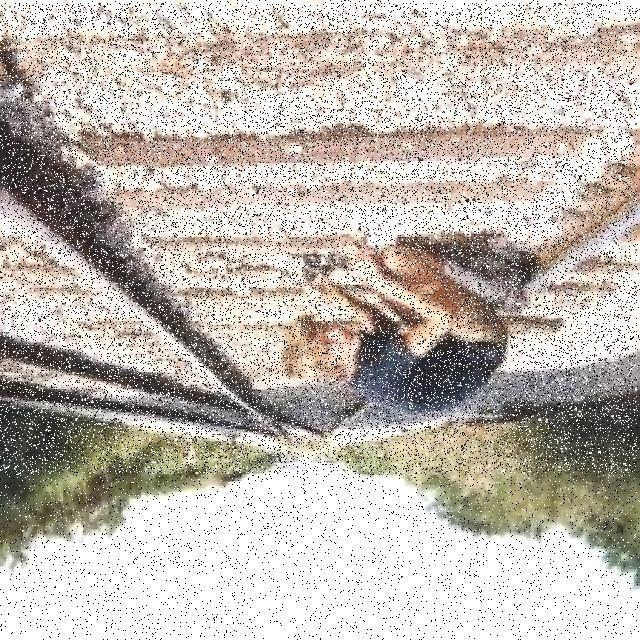danger: (280, 234, 532, 417)
rail: (0, 3, 637, 473)
